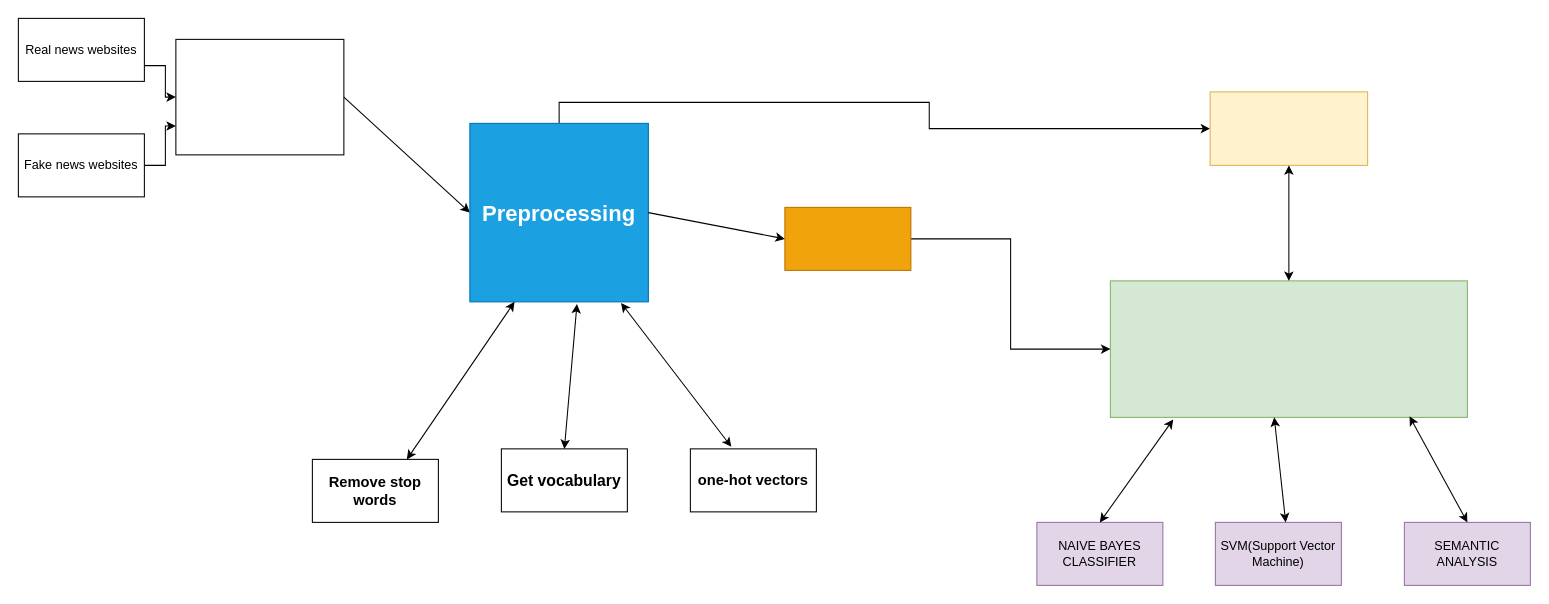
Image size: 1549x604. Some labels were removed from this diagram. The shapes that lost their labels are listed below. From the top down, each one's box as (x1, y1, x2, y2) in pixels, then its label:
(175, 38, 344, 155): Get more data
(1209, 91, 1368, 165): Database - JSON
(784, 206, 911, 270): Research
(1109, 280, 1467, 417): Classification
